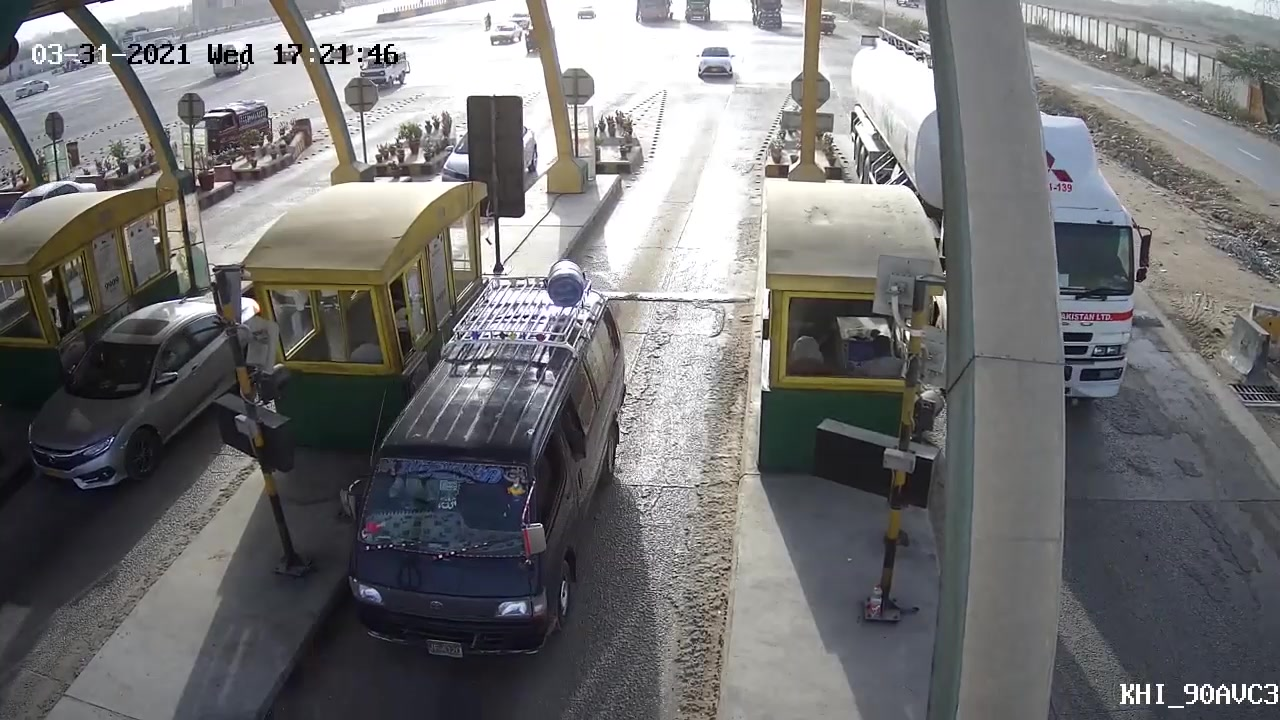F2: (318, 275, 634, 674)
